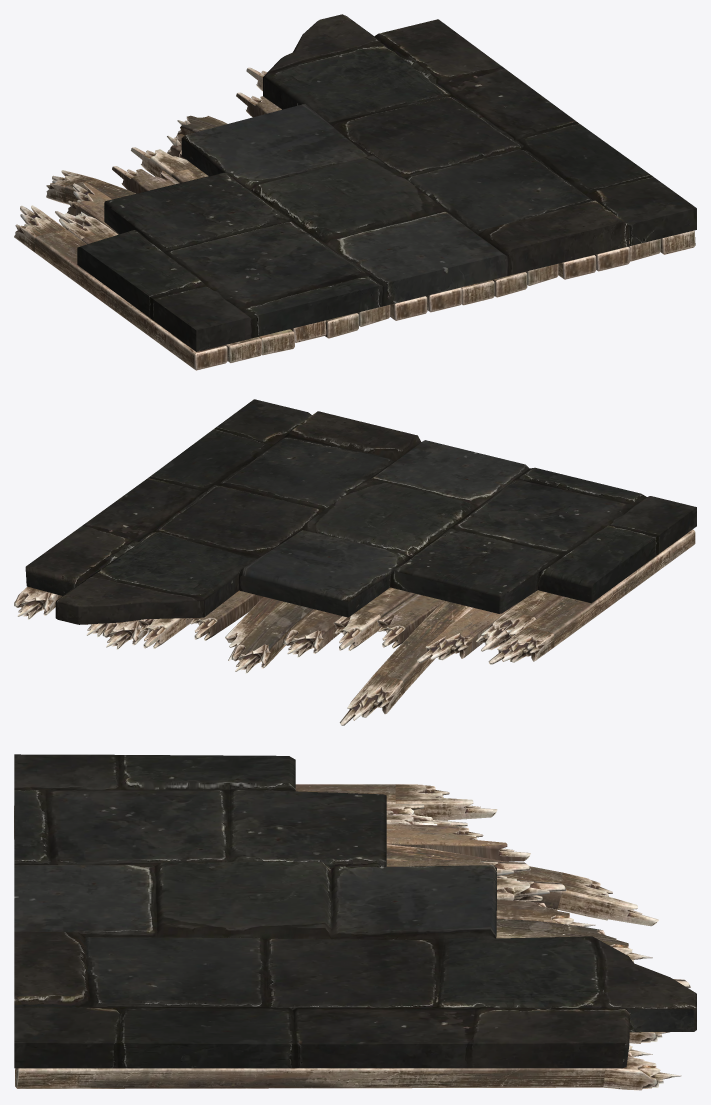
The picture shows the model from 3 angles, top to bottom: view 1: azimuth 30°, elevation 25°; view 2: azimuth 150°, elevation 25°; view 3: azimuth 270°, elevation 25°; orthographic projection. The views are drawn at different scales.
Parts seen in each view (by area): view 1: SM_SaradominTemple_Floor_Dmg_4x4_01_v4_LOD0; view 2: SM_SaradominTemple_Floor_Dmg_4x4_01_v4_LOD0; view 3: SM_SaradominTemple_Floor_Dmg_4x4_01_v4_LOD0.
Boxes of the visible parts, <box> form: SM_SaradominTemple_Floor_Dmg_4x4_01_v4_LOD0: <box>14,14,696,370</box>; SM_SaradominTemple_Floor_Dmg_4x4_01_v4_LOD0: <box>14,399,696,725</box>; SM_SaradominTemple_Floor_Dmg_4x4_01_v4_LOD0: <box>14,754,696,1090</box>.
Size of the model in its own units: 4 by 0.6456 by 4.
2 materials, 2 textured.
